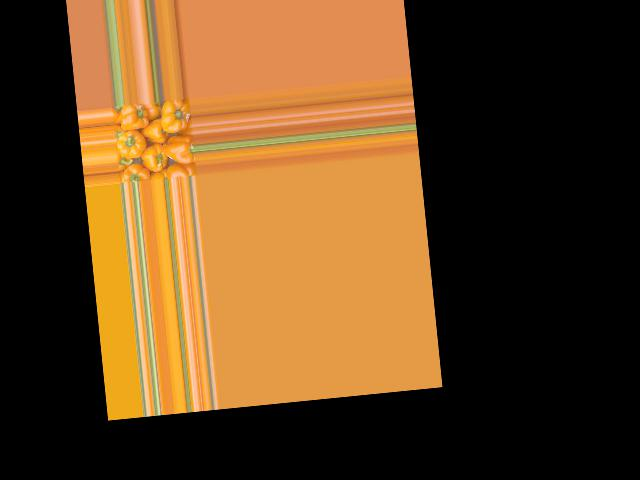bell_pepper: (165, 162, 197, 178)
